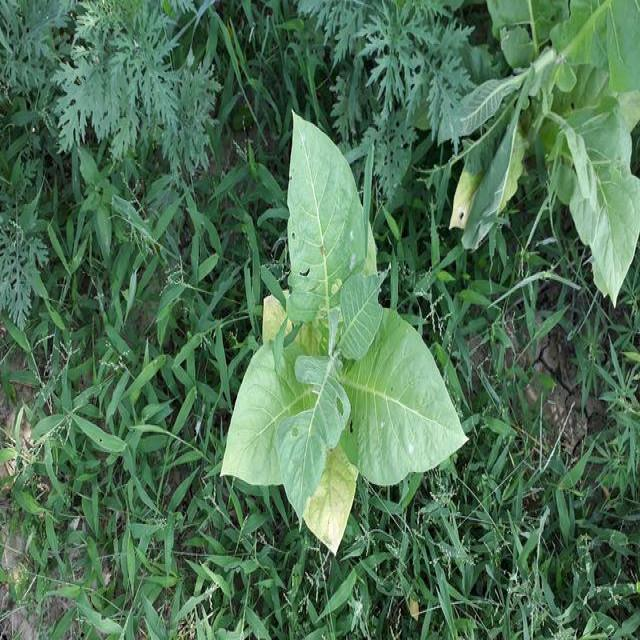crop: (238, 120, 447, 537), (490, 0, 640, 302)
